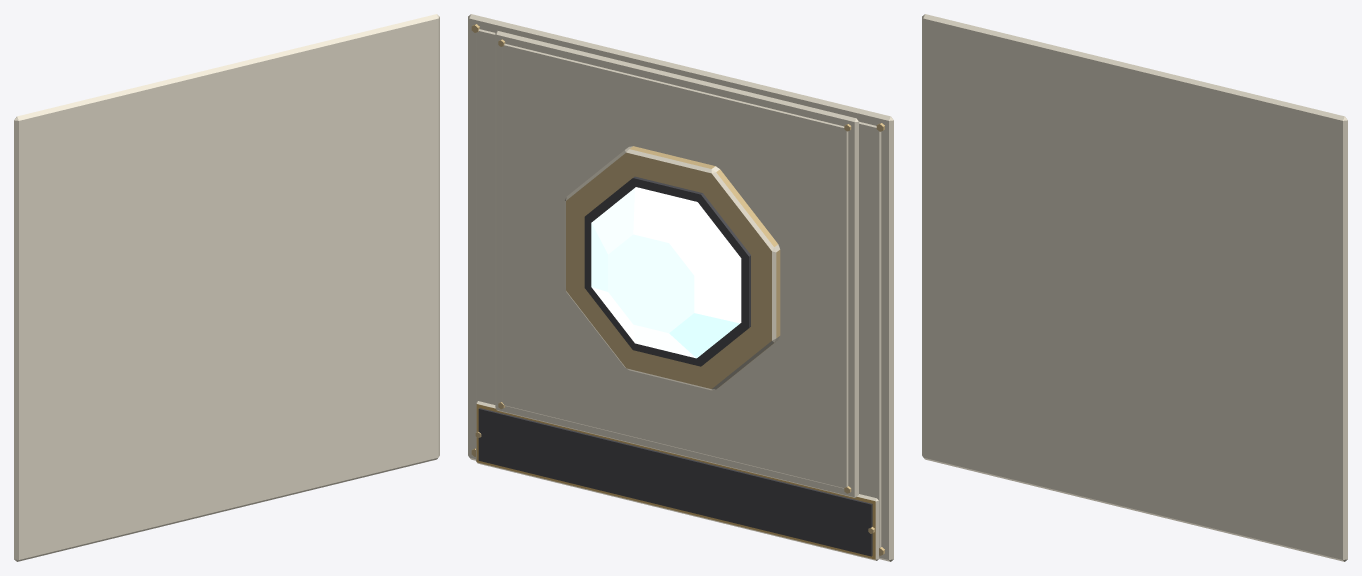
The model's file is Disp_Light_2x2.fbx.
3 views of the same model, side by side, from view 1: azimuth 30°, elevation 25°; view 2: azimuth 150°, elevation 25°; view 3: azimuth 330°, elevation 25° (orthographic).
Parts seen in each view (by area): view 1: Disp_Light_2x2; view 2: Disp_Light_2x2, Bulb.003; view 3: Disp_Light_2x2.
Boxes of the visible parts, <box> form: Disp_Light_2x2: <box>14,14,439,561</box>; Disp_Light_2x2: <box>468,14,893,561</box>; Bulb.003: <box>591,187,741,358</box>; Disp_Light_2x2: <box>922,14,1347,561</box>.
Bounding box in the file's own units: 2.06 × 2.06 × 0.2648.
